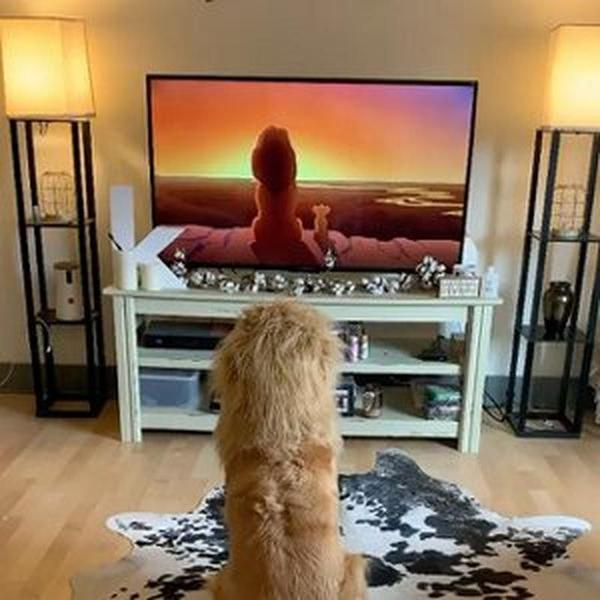allqu: (207, 314, 378, 600)
